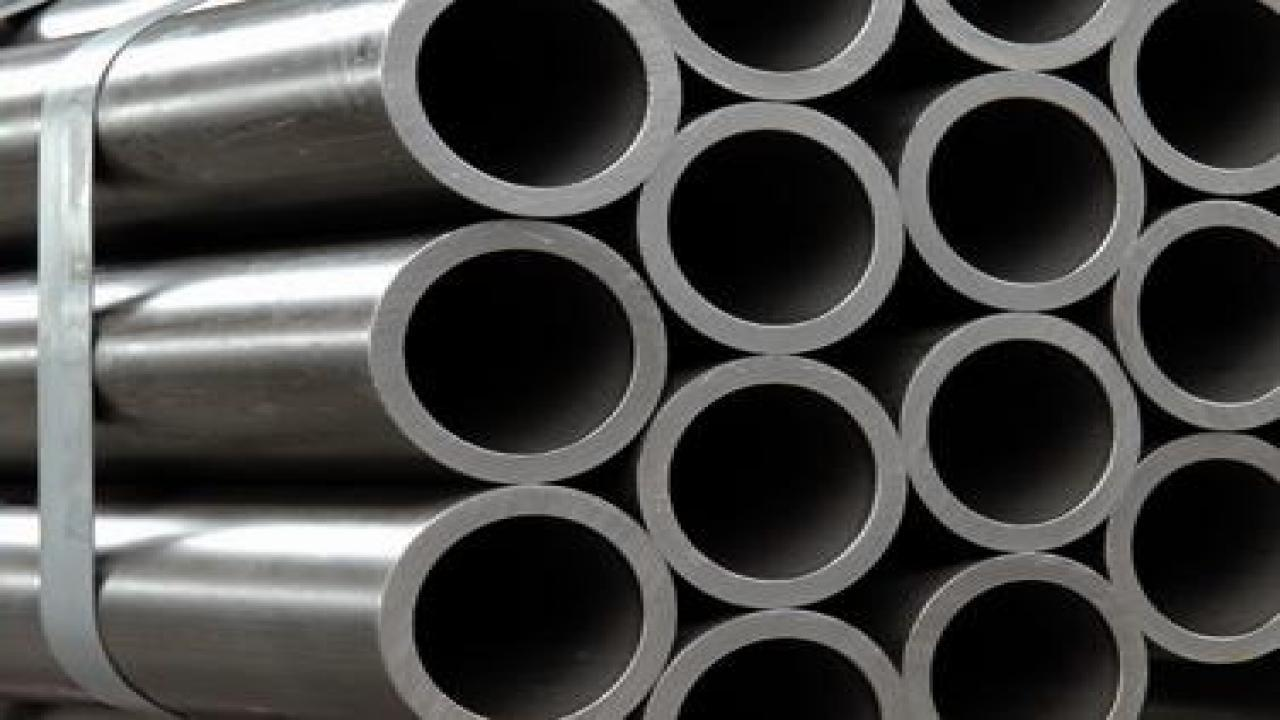pipe: (330, 208, 674, 492), (358, 476, 684, 718), (626, 346, 909, 611), (623, 89, 902, 356), (354, 0, 681, 219), (892, 64, 1148, 314), (892, 302, 1144, 554), (1096, 420, 1277, 664), (902, 546, 1154, 718), (1110, 196, 1276, 430), (626, 598, 906, 718), (1106, 0, 1276, 196), (643, 0, 908, 104), (902, 0, 1126, 74)
